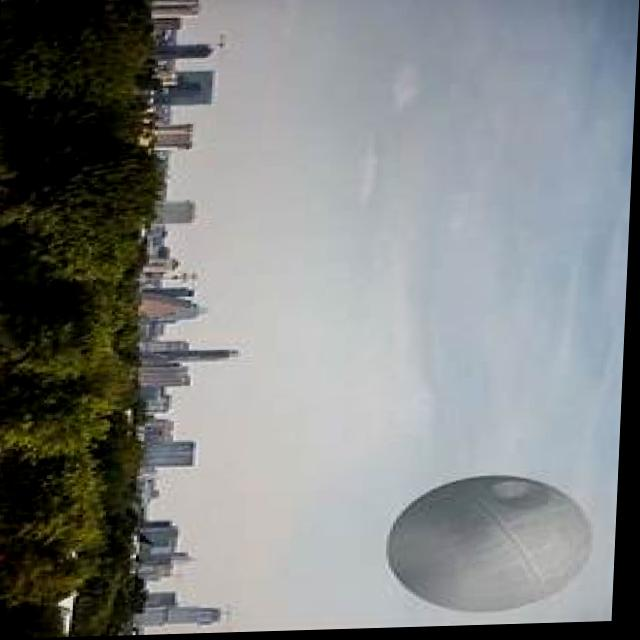deathStar: (384, 475, 609, 625)
